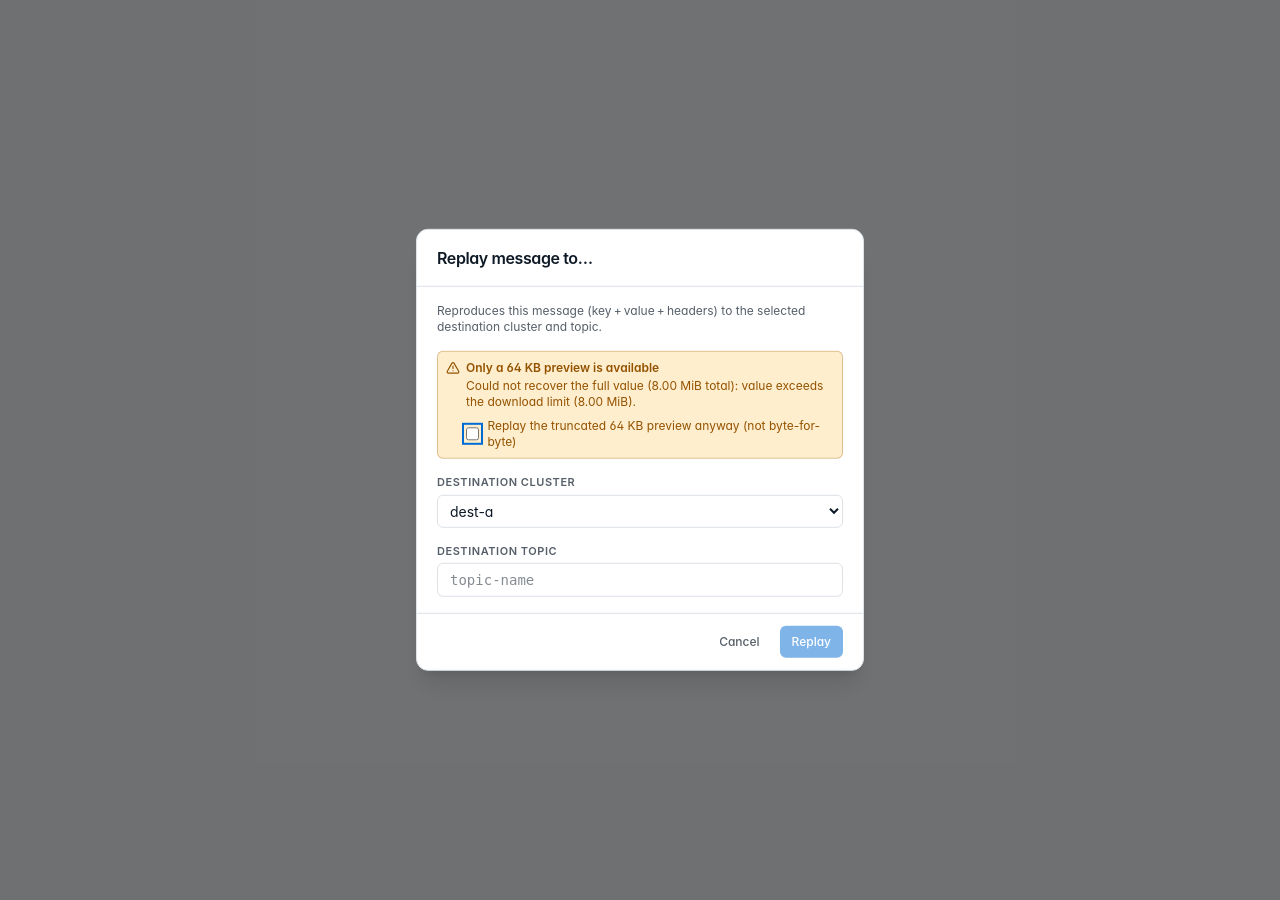
it: ReplayModal truncated value handling › blocks Replay and requires explicit opt-in when the full value cannot be recovered
Expected: the text "Only a 64 KB preview is available" is shown, x1=466 y1=360 x2=659 y2=375
Type "dest-topic" into the field with placeholder "topic-name". click: (640,580)
box: x1=437 y1=563 x2=843 y2=597
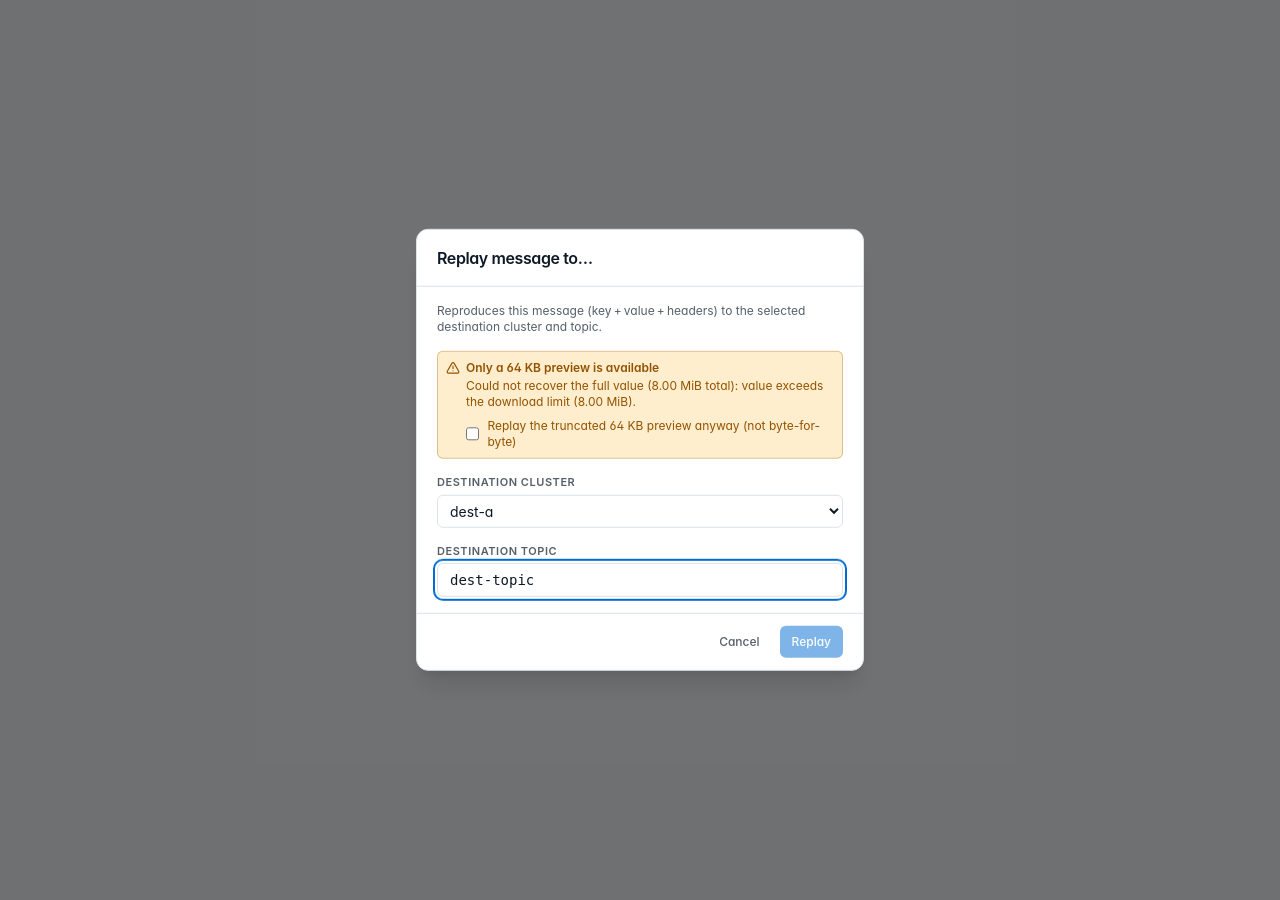
Expected: the button "Replay" is disabled, x1=780 y1=626 x2=843 y2=658
Click the checkbox labelled "Replay the truncated". click: (473,434)
box: x1=466 y1=427 x2=479 y2=441
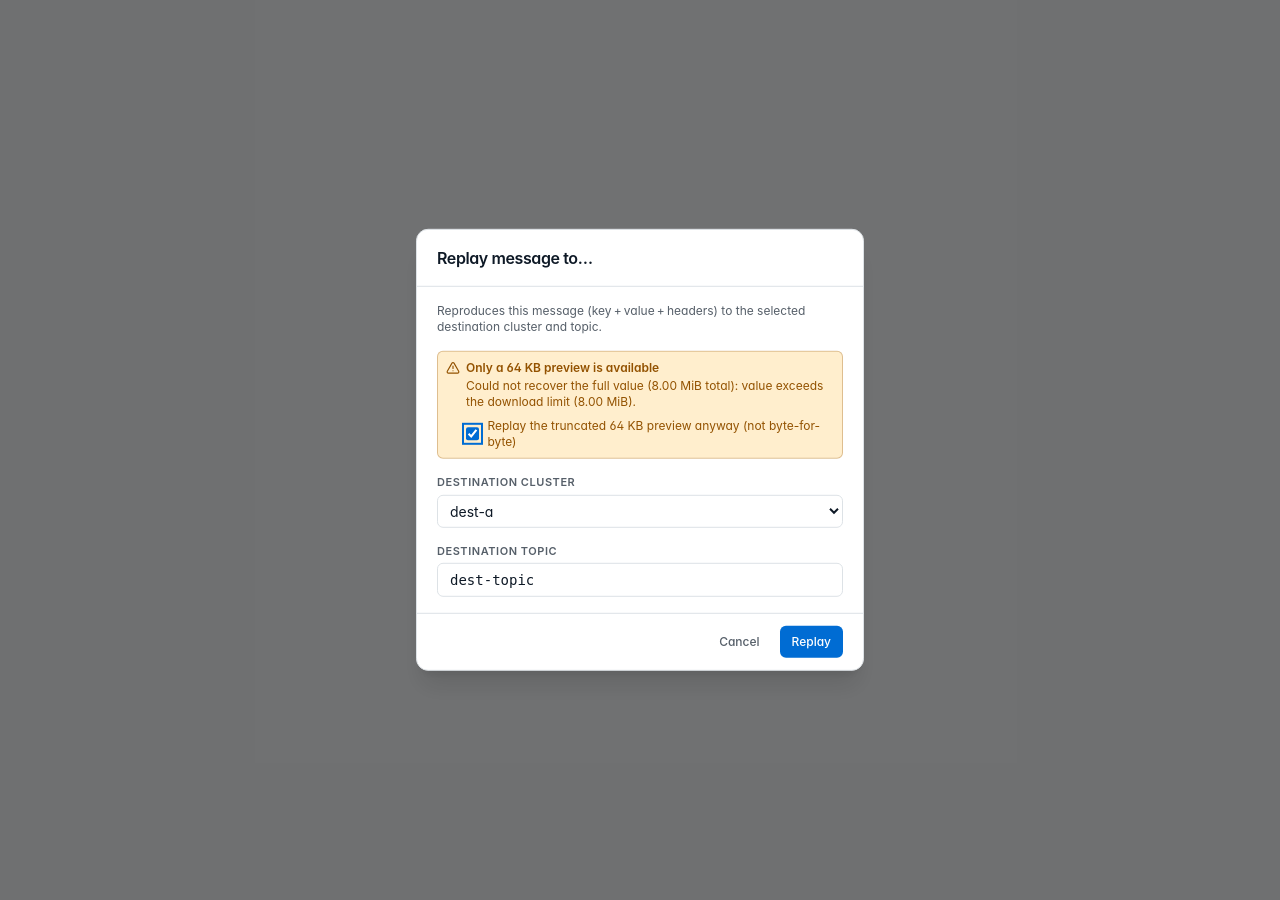
Now the button "Replay" is enabled, box x1=780 y1=626 x2=843 y2=658
